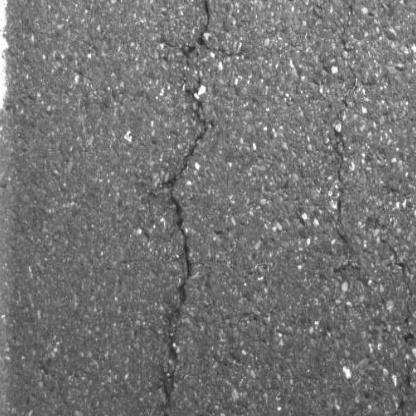Cracks: (160, 0, 216, 416), (377, 236, 416, 348), (331, 96, 355, 188), (330, 260, 374, 294), (331, 196, 351, 249)
